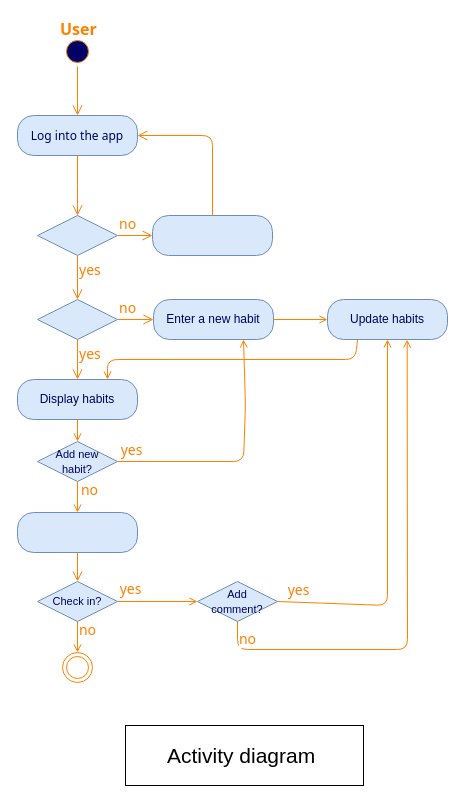
This 465x803 diagram has some shape labels left out. Each missing label, with the centre of its shape:
"Correct ?" goes at point (77, 235).
"Display error" goes at point (212, 235).
"Existing habits?" goes at point (77, 319).
"View one habit" goes at point (77, 532).
